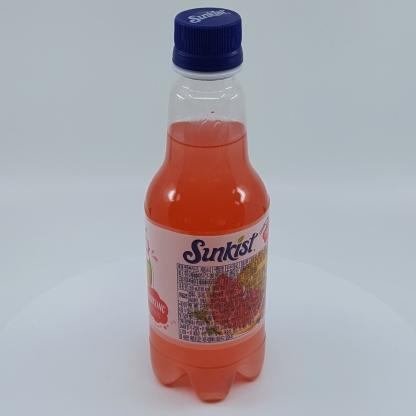----------350ML-PET-: (144, 7, 270, 401)
